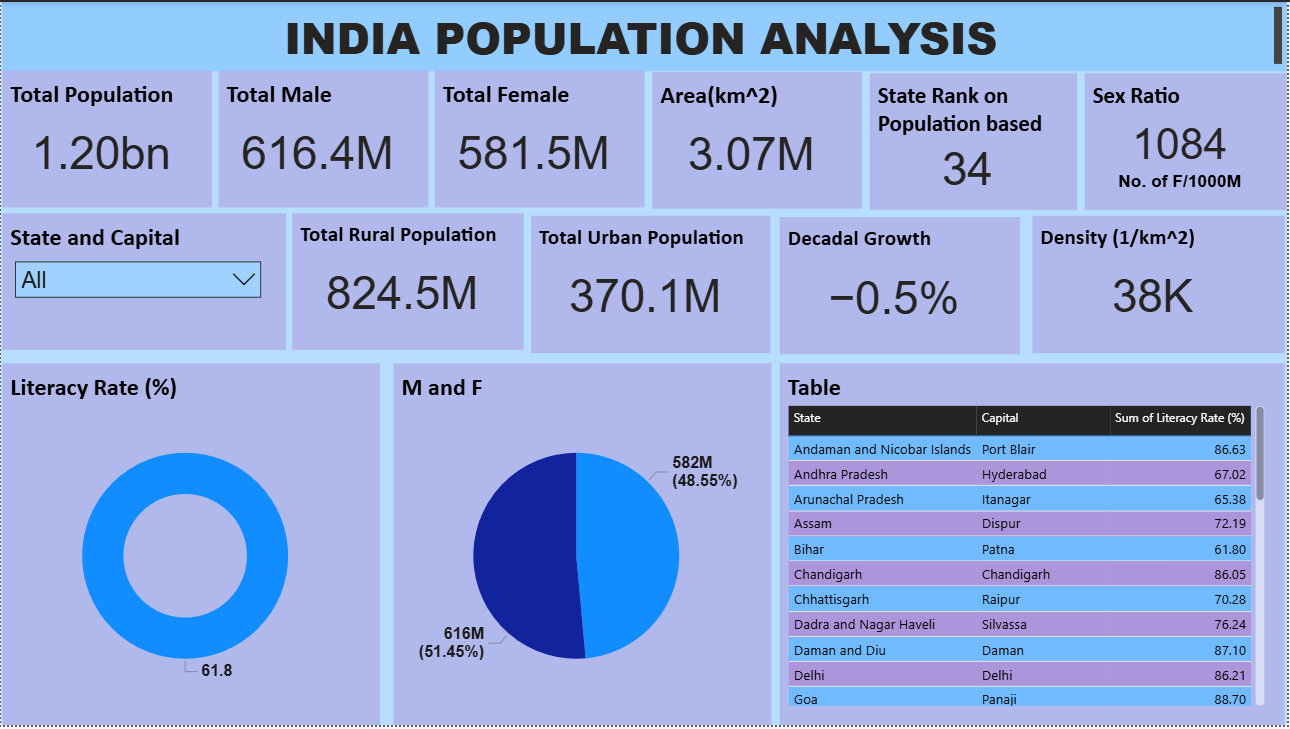

The page's visual inventory and layout, read from the dashboard file:
{"tool":"powerbi","page":{"name":"Population Analysis","canvas":[1280,720],"ordinal":0},"visuals":[{"type":"textbox","box":[1.4,0,1278.9,68.6],"z":0},{"type":"card","title":"Total Population","fields":{"Values":["Sum(population.Population)"]},"box":[1.4,68.6,208.6,135.8],"z":1000},{"type":"card","title":"Total Male","fields":{"Values":["Sum(population.Males)"]},"box":[217,68.6,208.6,135.8],"z":2000},{"type":"card","title":"Total Female","fields":{"Values":["Sum(population.Females)"]},"box":[432.2,68.6,208.6,135.8],"z":3000},{"type":"card","title":"Area(km^2)","fields":{"Values":["Sum(population.Area (km*km))"]},"box":[648,70,208.6,135.8],"z":4000},{"type":"card","title":"Total Rural Population","fields":{"Values":["Sum(population.Rural Population)"]},"box":[290,209.9,230.5,135.8],"z":5000},{"type":"card","title":"Total Urban Population","fields":{"Values":["Sum(population.Urban Population)"]},"box":[527,212.7,238.8,137],"z":6000},{"type":"slicer","title":"State and Capital","fields":{"Values":["population.State","population.Capital"]},"box":[1.4,209.9,282.7,135.8],"z":7000},{"type":"donutChart","title":"Literacy Rate (%)","fields":{"Y":["Min(population.Literacy Rate (%))"]},"box":[1.2,359.5,376,361],"z":8000},{"type":"pieChart","title":"M and F ","fields":{"Y":["Sum(population.Females)","Sum(population.Males)"]},"box":[390.6,359.5,375.7,361],"z":9000},{"type":"tableEx","title":"Table","fields":{"Values":["population.State","population.Capital","Sum(population.Literacy Rate (%))"]},"box":[775,359.5,502.6,360.7],"z":10000},{"type":"card","title":"State Rank on Population based","fields":{"Values":["CountNonNull(population.Rank)"]},"box":[865,71.4,206,135.8],"z":11000},{"type":"card","title":"Sex Ratio","fields":{"Values":["Max(population.Sex Ratio)"]},"box":[1078,71.4,201,135.8],"z":12000},{"type":"card","title":"Decadal Growth","fields":{"Values":["Min(population.Decadal Growth (%))"]},"box":[775,214,238.8,137],"z":13000},{"type":"card","title":"Density (1/km^2)","fields":{"Values":["Sum(population.Density (1/km*km))"]},"box":[1026.3,212.7,251.3,136.8],"z":13001}]}

Visuals, with their boxes in screenshot pixels (x1, y1, x2, y2), scaled from the page's 1280x720 canvas onto the 1290x729 screenshot:
textbox: 1:0:1289:69
"Total Population" card: 1:69:212:207
"Total Male" card: 219:69:429:207
"Total Female" card: 436:69:646:207
"Area(km^2)" card: 653:71:863:208
"Total Rural Population" card: 292:213:525:350
"Total Urban Population" card: 531:215:772:354
"State and Capital" slicer: 1:213:286:350
"Literacy Rate (%)" donutChart: 1:364:380:728
"M and F " pieChart: 394:364:772:728
"Table" tableEx: 781:364:1288:728
"State Rank on Population based" card: 872:72:1079:210
"Sex Ratio" card: 1086:72:1289:210
"Decadal Growth" card: 781:217:1022:355
"Density (1/km^2)" card: 1034:215:1288:354
